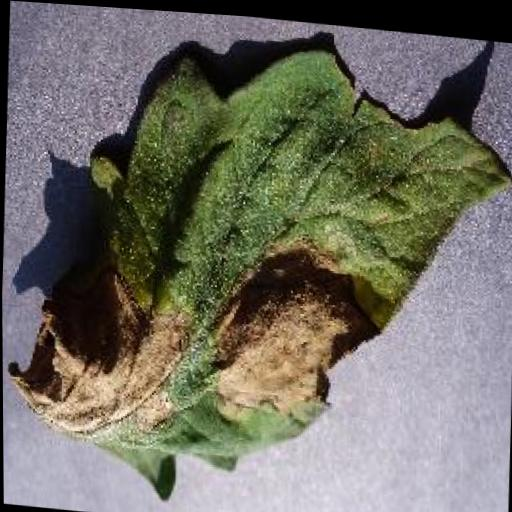Late Blight: (0, 17, 512, 512)
